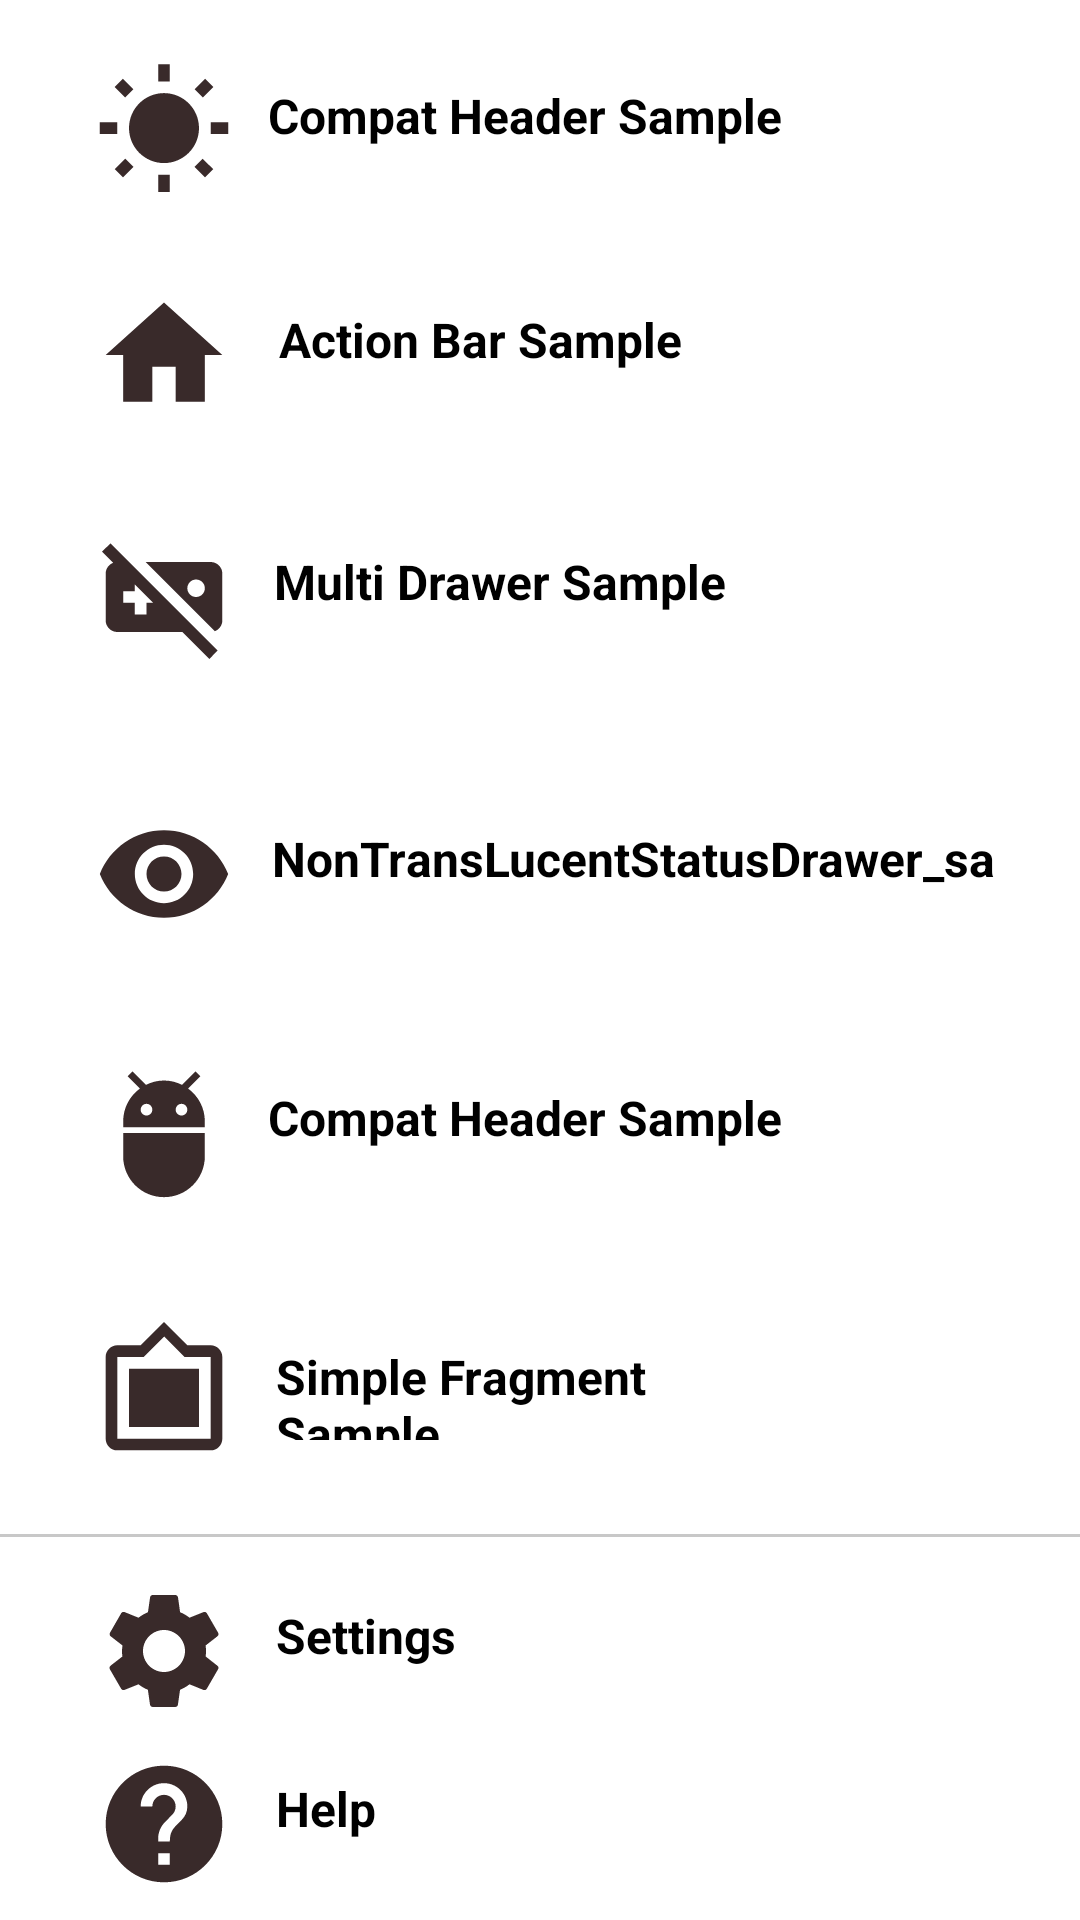

Locate icon controls on the screen. Image size 1080px x 1920px, boxes as (x1, y1, x2, y2).
eye: (100, 830, 228, 918)
home: (106, 302, 222, 402)
sunny: (99, 64, 229, 192)
videogame: (102, 543, 223, 659)
